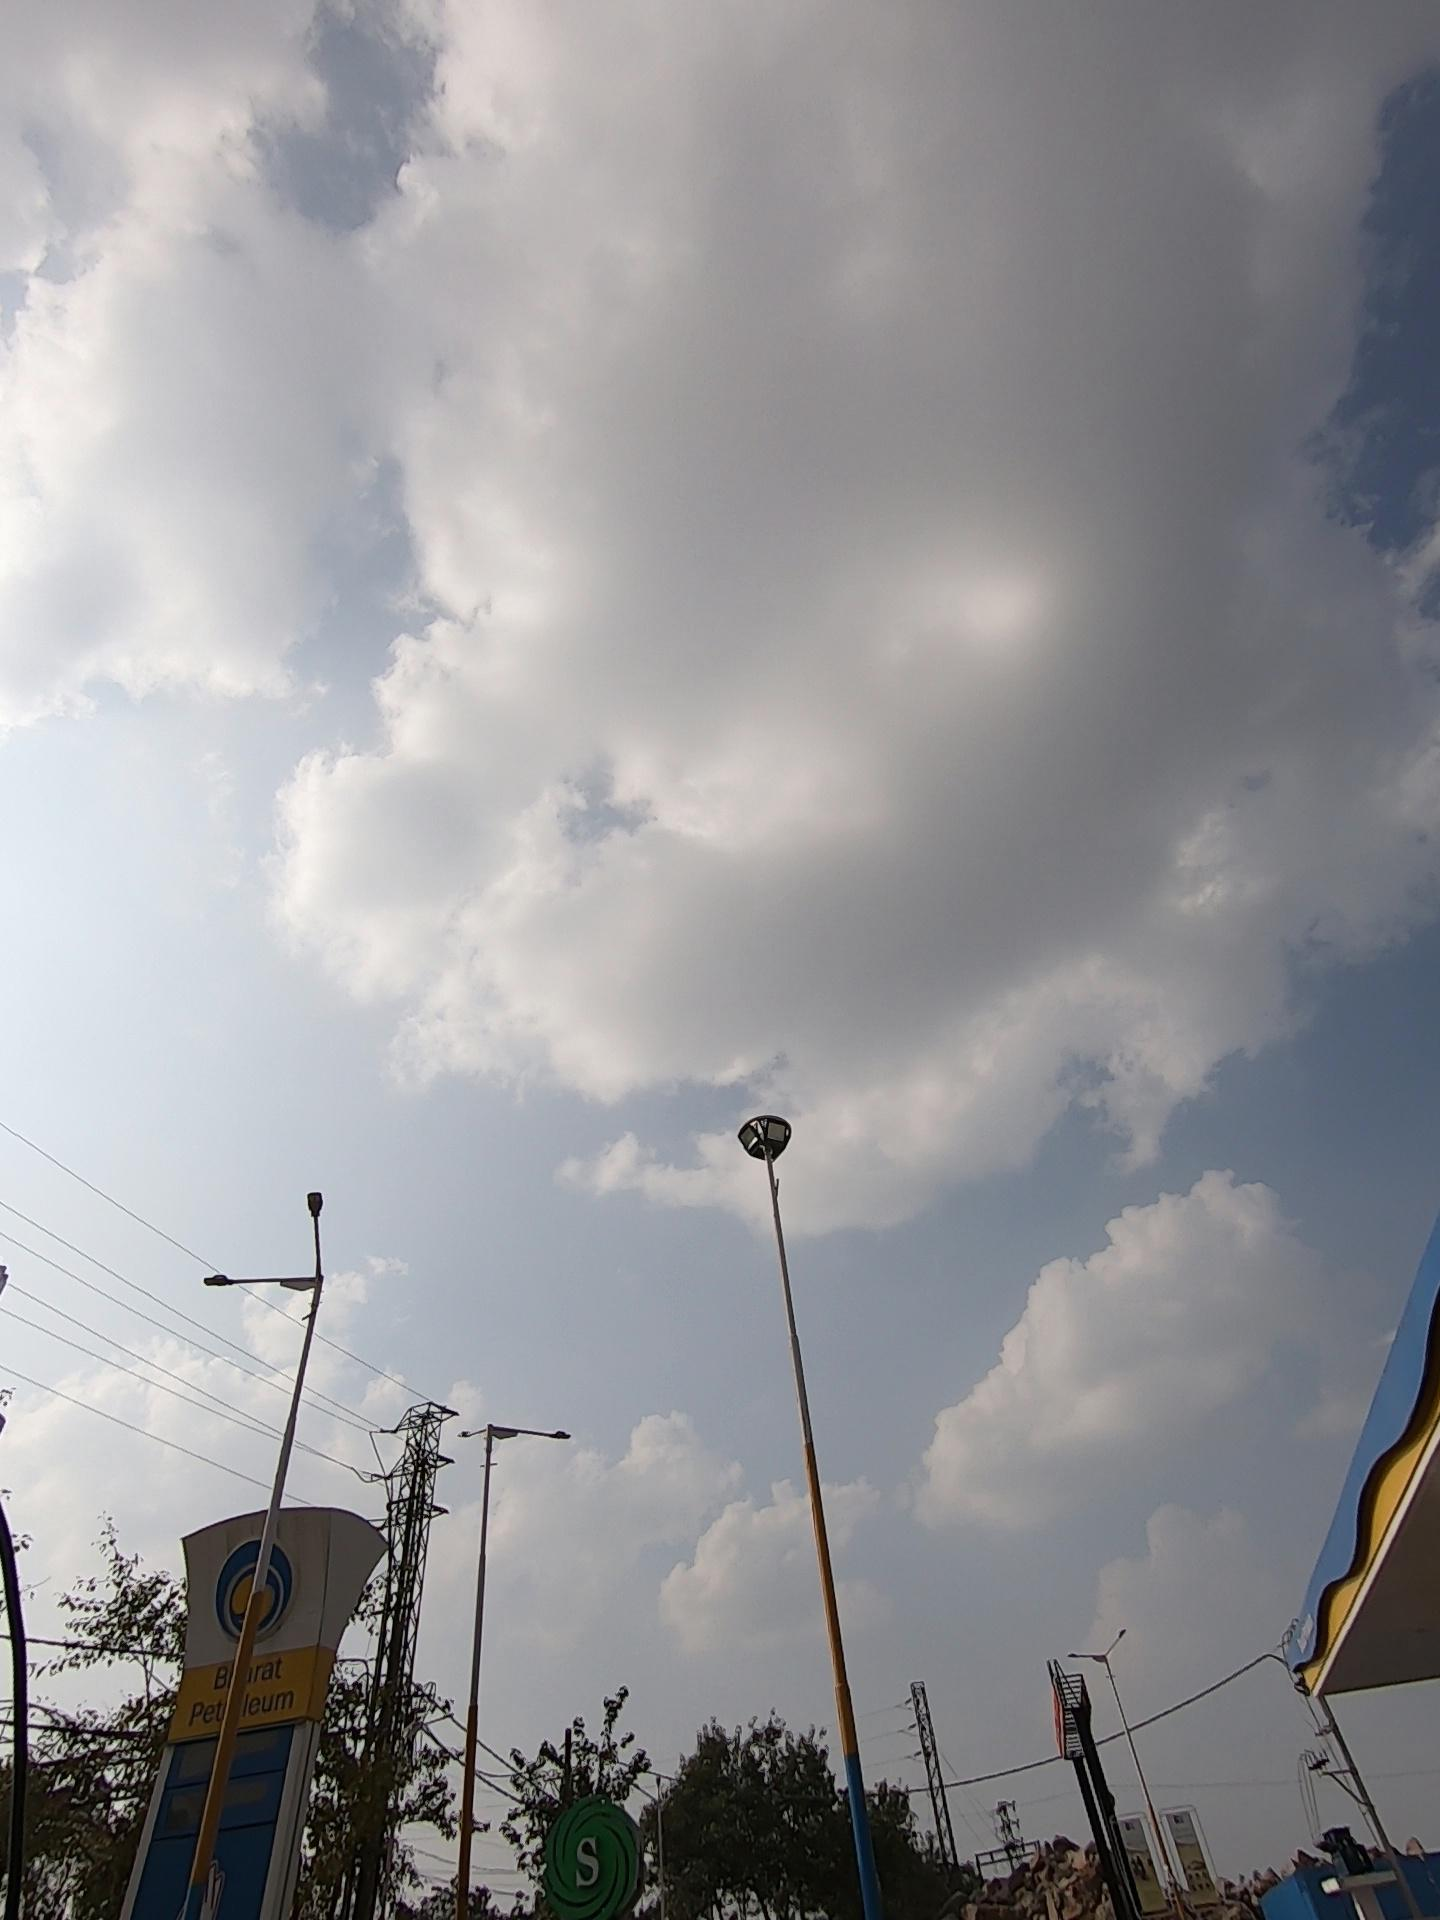off: (180, 1150, 440, 1344), (681, 1081, 903, 1208)
